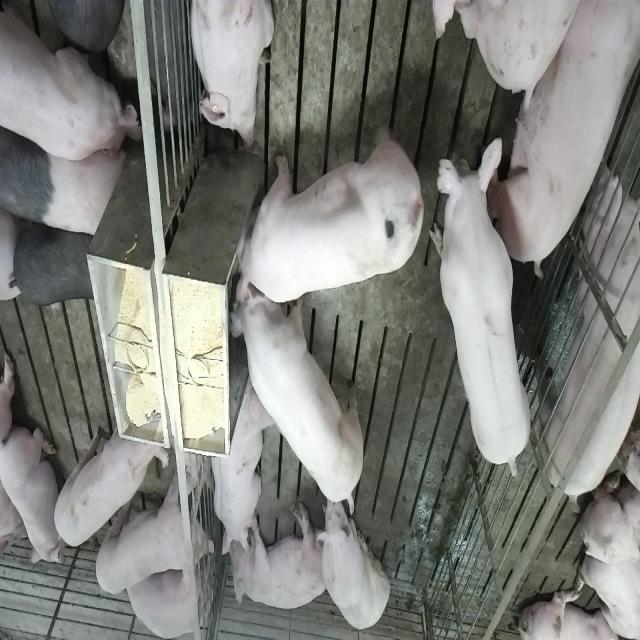Feeding: (233, 109, 427, 299), (231, 271, 365, 515)
Lateral_lying: (498, 0, 640, 275), (228, 502, 328, 610)
Sitting: (314, 488, 390, 632)
Standing: (534, 156, 640, 514), (430, 129, 533, 483), (2, 0, 142, 164), (52, 404, 167, 548), (94, 472, 216, 600), (2, 122, 128, 240), (10, 210, 100, 310), (34, 0, 123, 53)
Sternal_lying: (187, 0, 275, 150), (207, 376, 271, 556), (1, 418, 61, 568), (125, 554, 209, 638)
